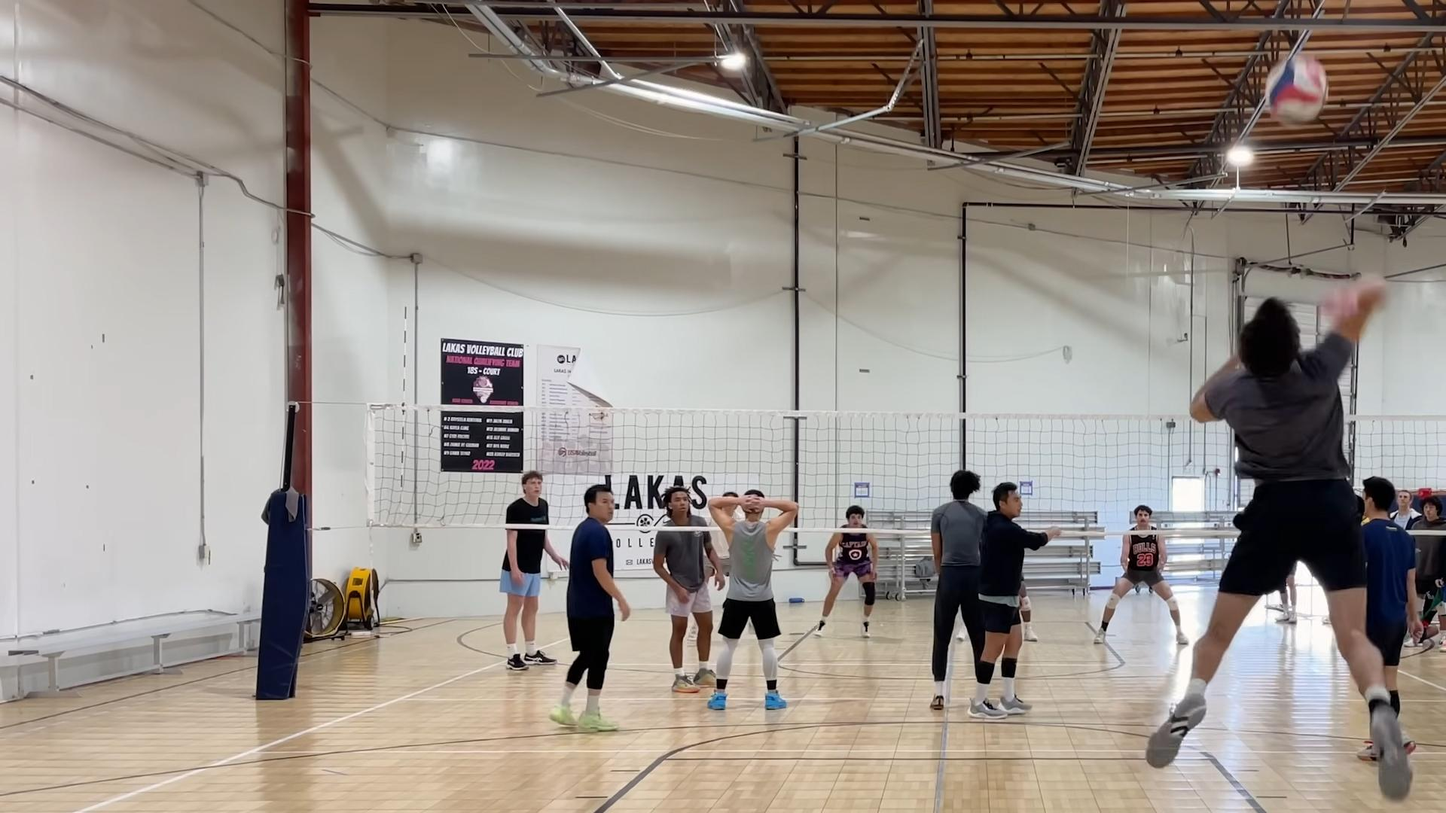Player: (969, 483, 1060, 718), (708, 489, 798, 709), (550, 485, 630, 730), (653, 486, 723, 693), (1362, 477, 1422, 717), (930, 470, 985, 710), (1094, 534, 1188, 644), (499, 528, 567, 670), (815, 506, 877, 637), (1018, 579, 1038, 641), (712, 528, 728, 577)
Serve: (1135, 261, 1414, 791)
ball: (1264, 52, 1328, 126)
